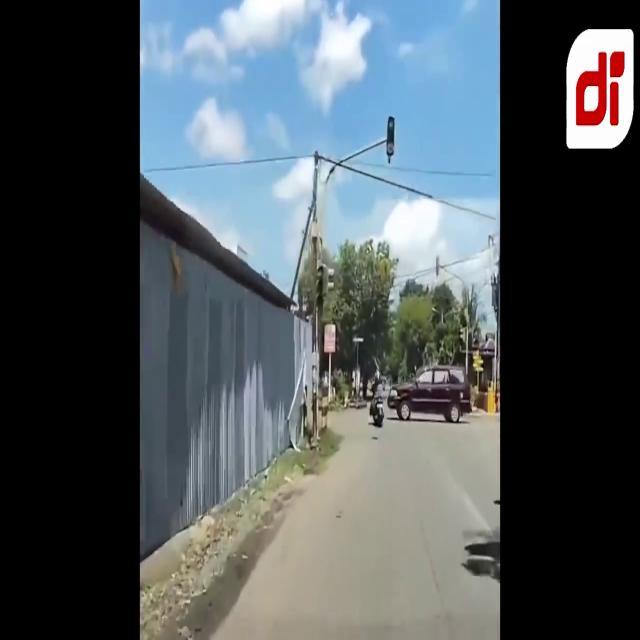multiple_accident: (352, 312, 500, 432)
single accident: (2, 5, 144, 638)
